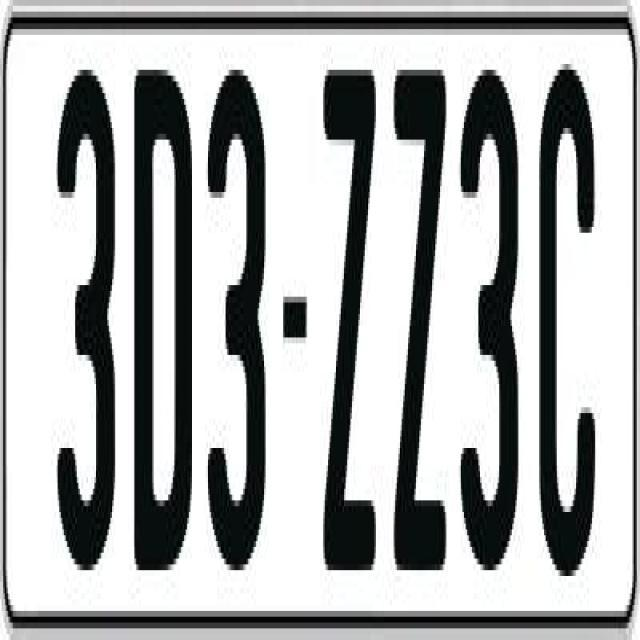3: (55, 64, 118, 588), (208, 64, 270, 570), (458, 52, 516, 553)
C: (536, 64, 595, 570)
D: (131, 52, 189, 564)
Z: (394, 58, 452, 582), (320, 58, 376, 588)
